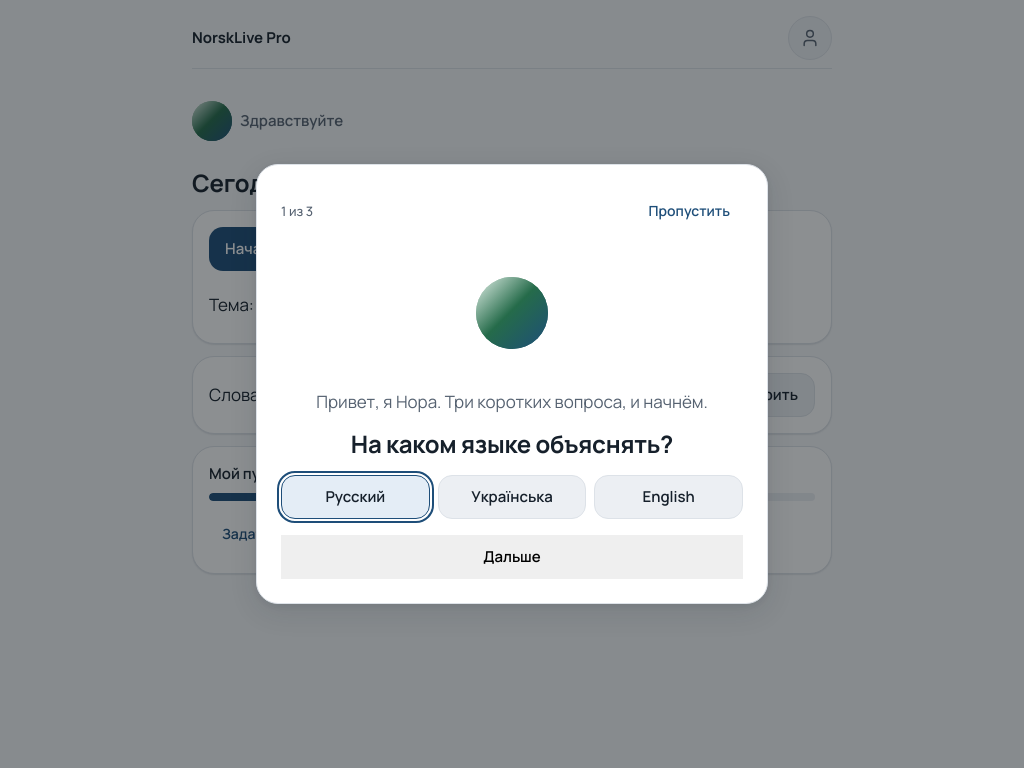
Scenario: PathHome & FirstRun Redesign (Issue #55) › renders microphone button and toggles recording when speech recognition is supported
// Advance to step 3
Step 1. Click the button "Дальше" → (512, 557), box x1=281 y1=535 x2=743 y2=579
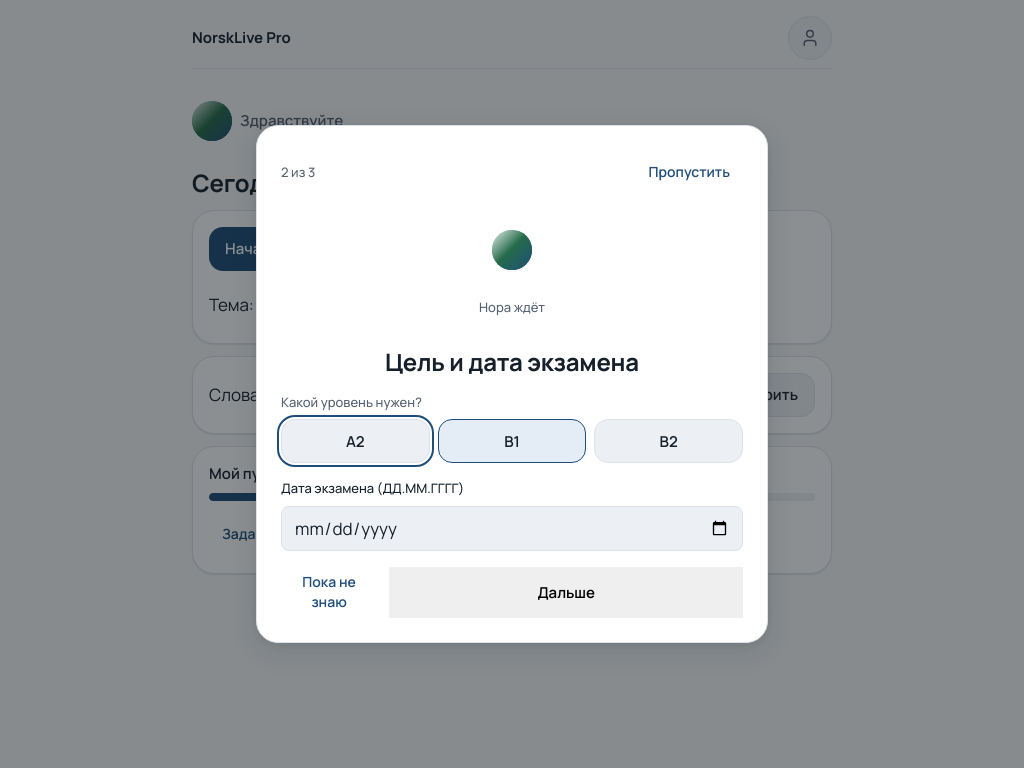
Step 2. Click the button "Дальше" → (566, 592), box x1=389 y1=567 x2=743 y2=618
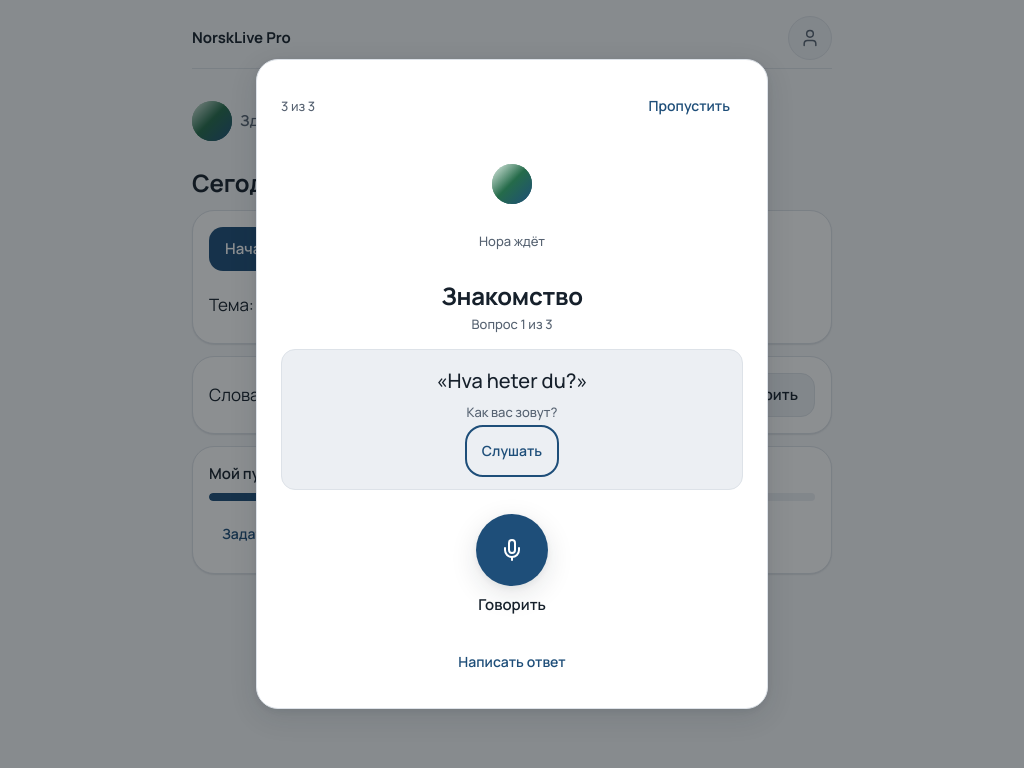
Now the button named "Говорить" is shown, box x1=476 y1=514 x2=548 y2=586
Now the text "Говорить" is shown, box x1=478 y1=594 x2=546 y2=616
